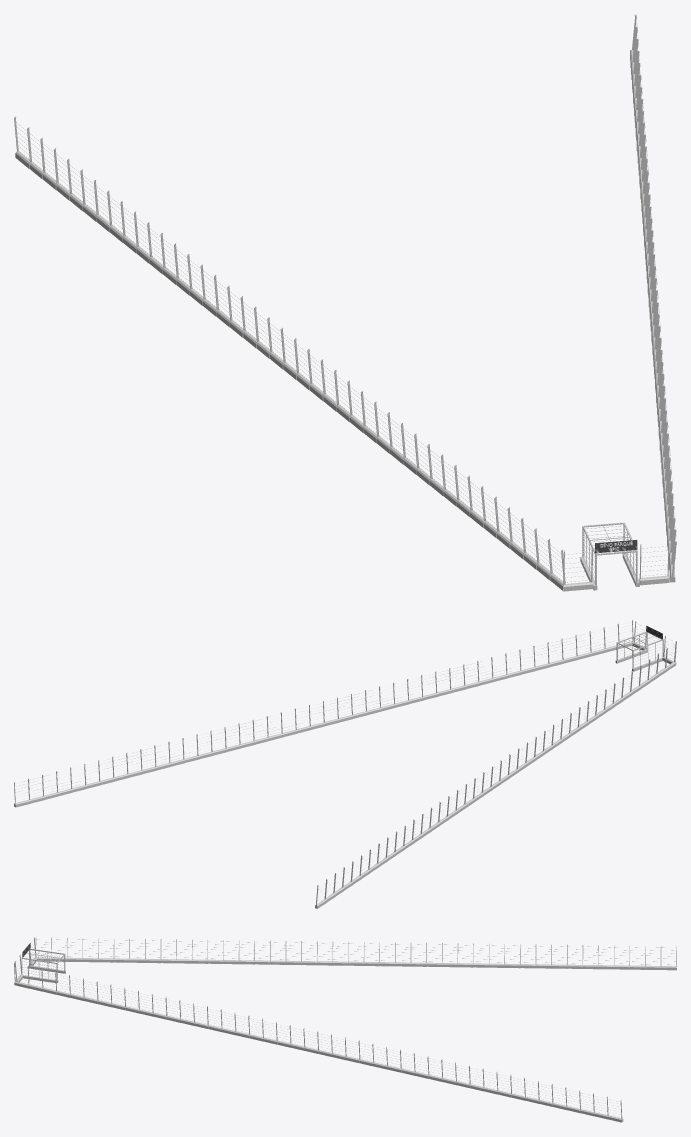
File: zonadinosaurios reja .fbx
The picture shows the model from 3 angles, top to bottom: view 1: azimuth 30°, elevation 25°; view 2: azimuth 150°, elevation 25°; view 3: azimuth 270°, elevation 25°; orthographic projection. The views are drawn at different scales.
Parts seen in each view (by area): view 1: __0.004, __0.005, __0.007; view 2: __0.005, __0.004, __0.007; view 3: __0.004, __0.005, __0.007.
Boxes of the visible parts, <box> form: __0.004: <box>14,116,565,591</box>; __0.005: <box>630,14,676,582</box>; __0.007: <box>580,522,639,590</box>; __0.005: <box>14,620,633,807</box>; __0.004: <box>315,641,676,908</box>; __0.007: <box>615,625,663,671</box>; __0.004: <box>35,937,676,970</box>; __0.005: <box>14,963,623,1122</box>; __0.007: <box>21,943,65,983</box>.
Bounding box in the file's own units: 8328 × 603 × 14302.
Materials: 3 (1 with a texture image).
